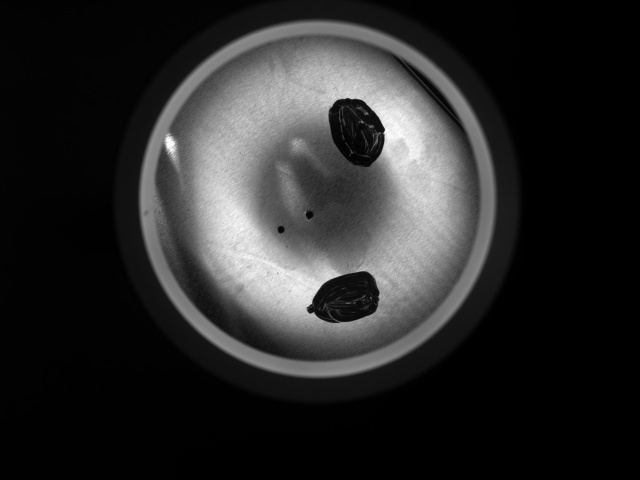zang_wu: (327, 97, 386, 170), (305, 268, 381, 324)
zhen_kong: (304, 207, 318, 221), (276, 221, 288, 235)
